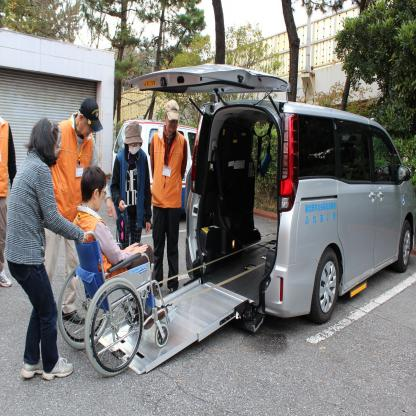wheelchair: (60, 166, 178, 373)
